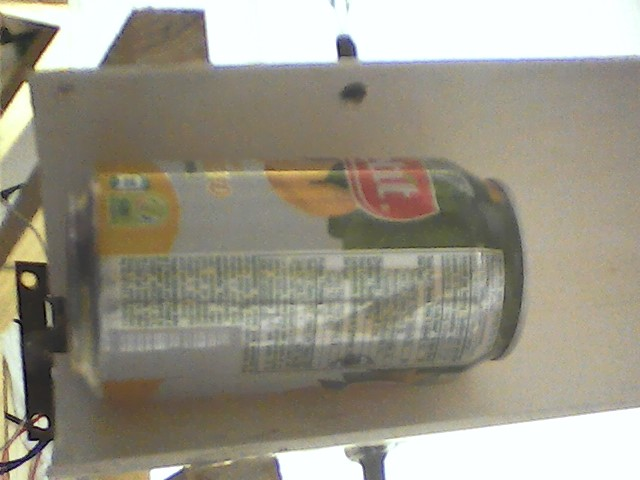lata: (59, 152, 536, 411)
